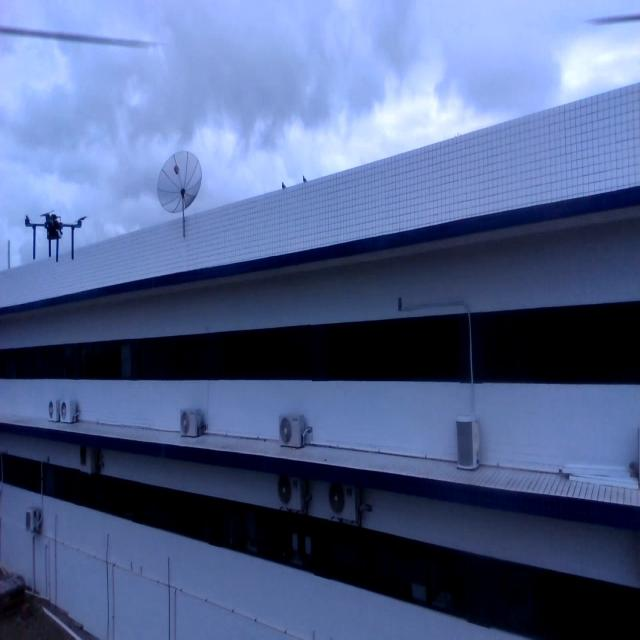-uav-: (12, 191, 95, 273)
